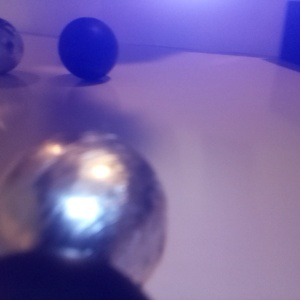alive_ball: (1, 128, 168, 295), (1, 18, 24, 80)
dead_ball: (1, 247, 155, 300), (58, 16, 118, 80)
